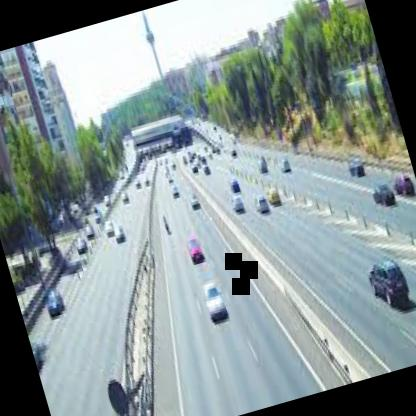car: (357, 241, 416, 333), (196, 276, 232, 334), (384, 151, 416, 205), (366, 182, 404, 223), (40, 281, 71, 329), (335, 152, 370, 184), (224, 184, 252, 224), (184, 233, 212, 271), (258, 174, 286, 212), (68, 226, 90, 258), (252, 191, 274, 221), (119, 186, 139, 219), (276, 156, 298, 184), (225, 171, 244, 199), (111, 222, 130, 247), (200, 157, 216, 186), (184, 186, 200, 213), (166, 180, 182, 206), (129, 172, 145, 196), (141, 175, 154, 194)
